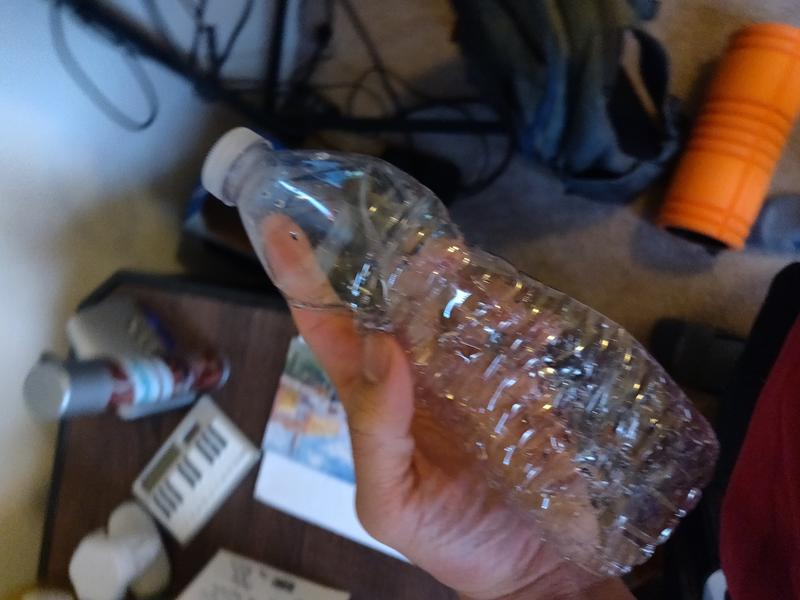bottle: (194, 121, 726, 581)
